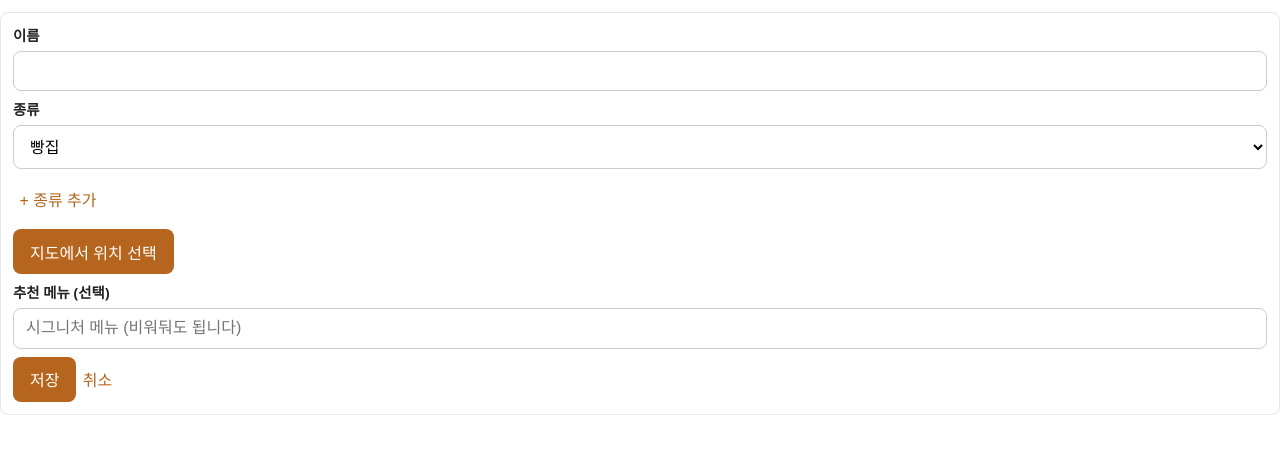
it: SpotForm coordinate capture + menu fields (REQ-F1-001, REQ-F4-001 / AC-F1-06, AC-F4-01) › blocks submit until a location is picked
Type "빵집" into the field labelled "이름".
click(640, 71); type("빵집")  # box left=13, top=51, right=1267, bottom=91
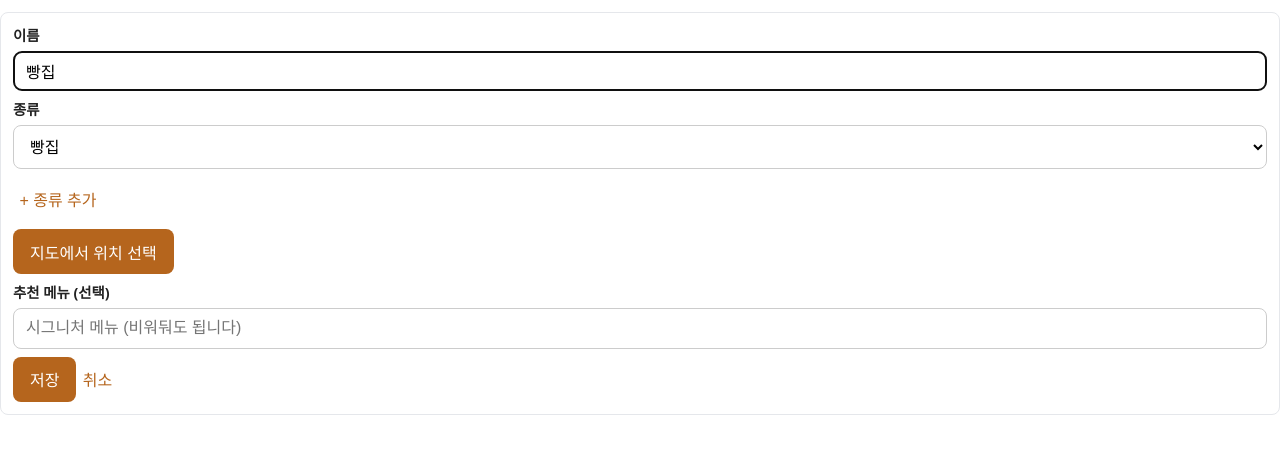
Click the button "저장".
click(45, 379)  # box left=13, top=357, right=76, bottom=402
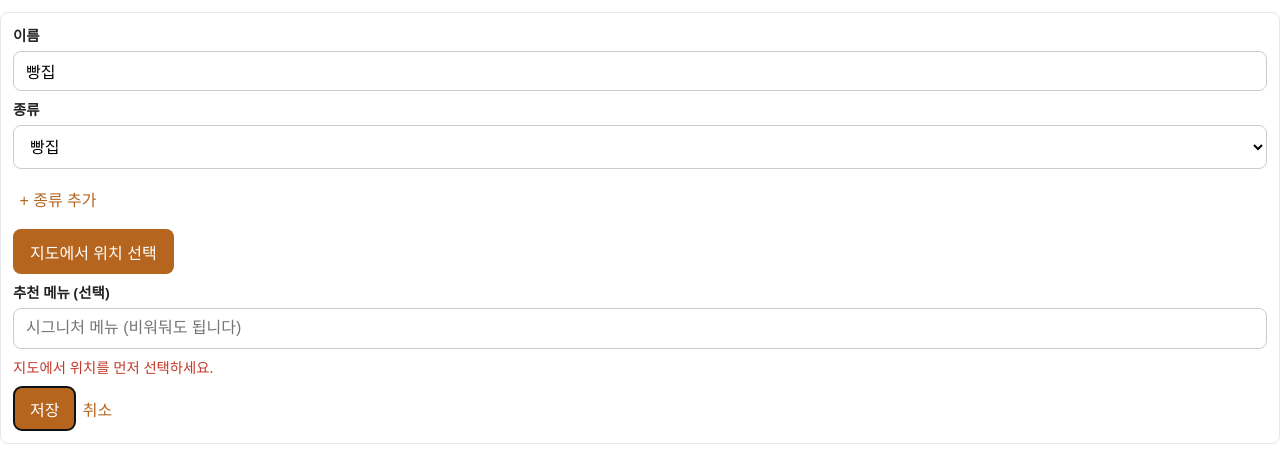
expect the message shows "위치": met, box left=13, top=358, right=213, bottom=377
